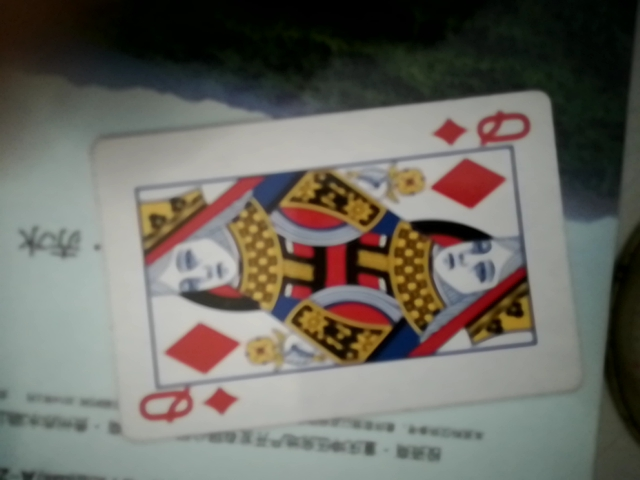fk q: (96, 82, 574, 440)
